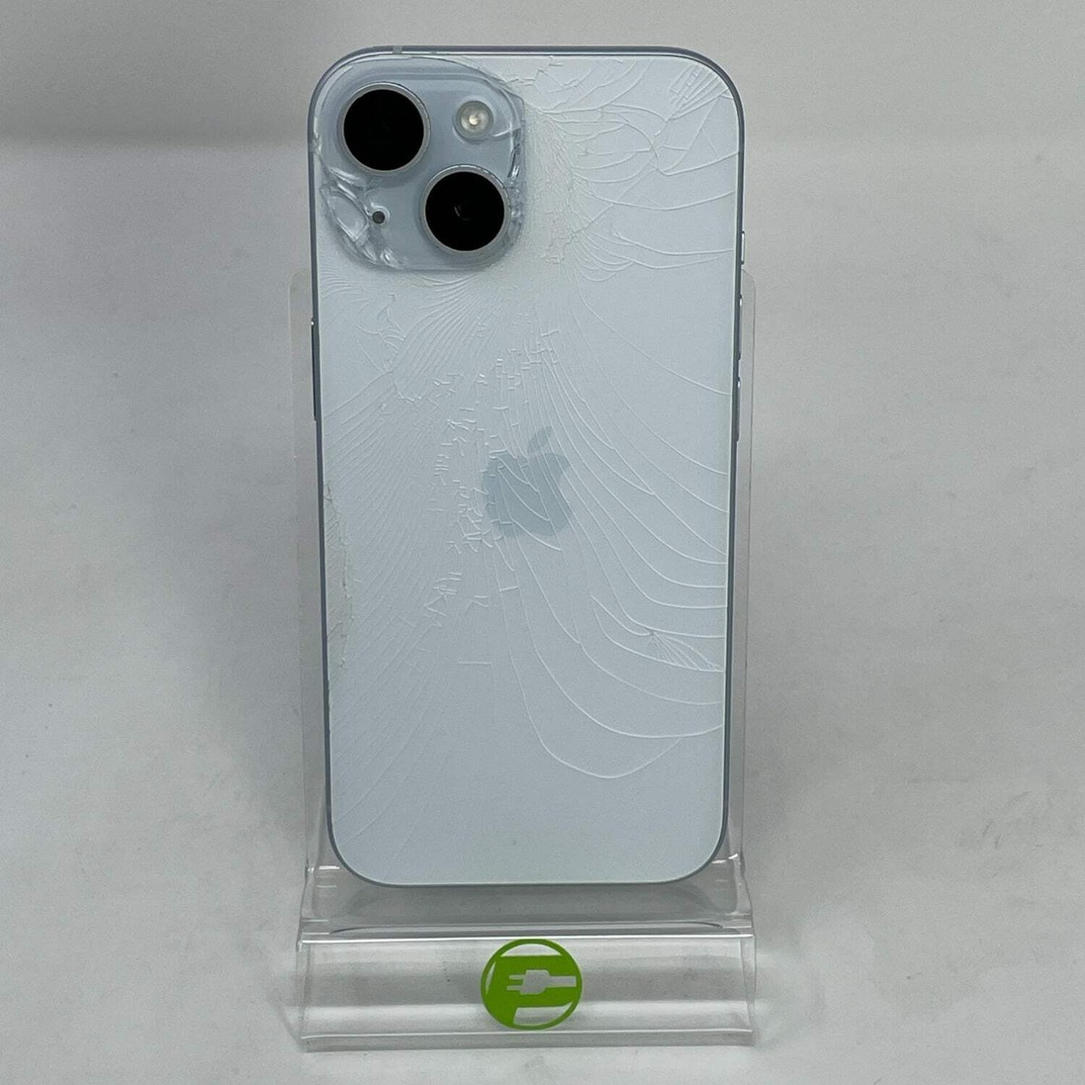crack_phone: (267, 27, 778, 902)
